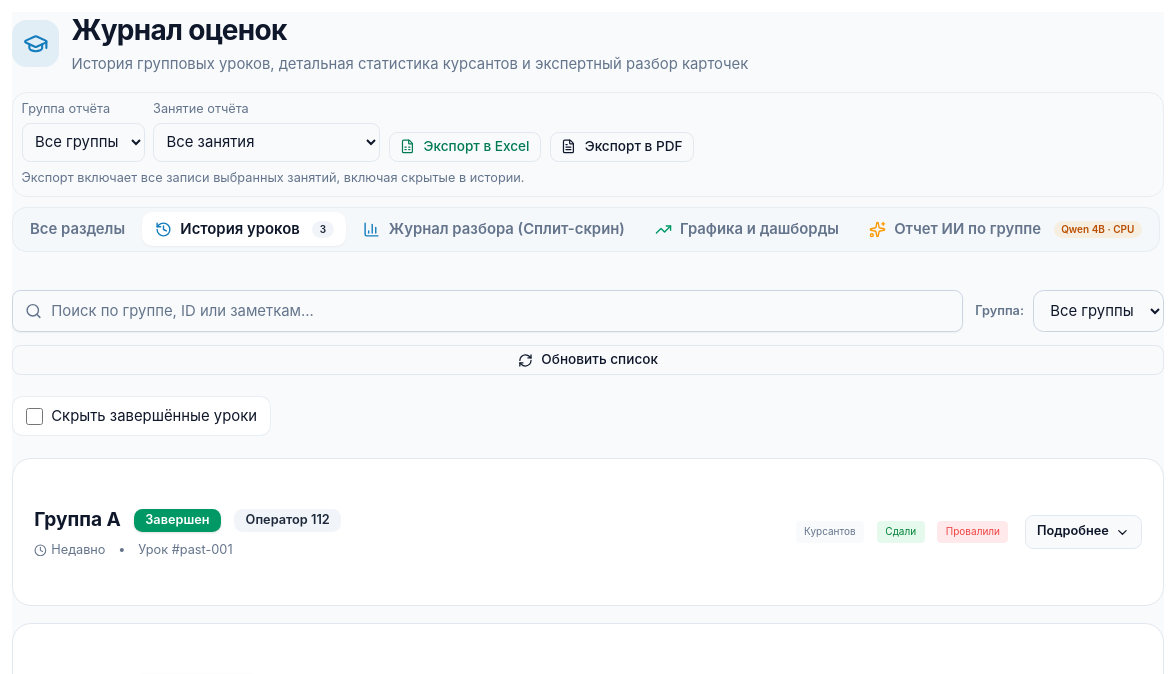
Test case: keeps report scope independent of the history filters without deleting history
Check: the text "Урок #past-001" is shown, box [138,542,233,558]
Click the checkbox labelled "Скрыть завершённые уроки" at (34, 416), box [26,408,43,425]
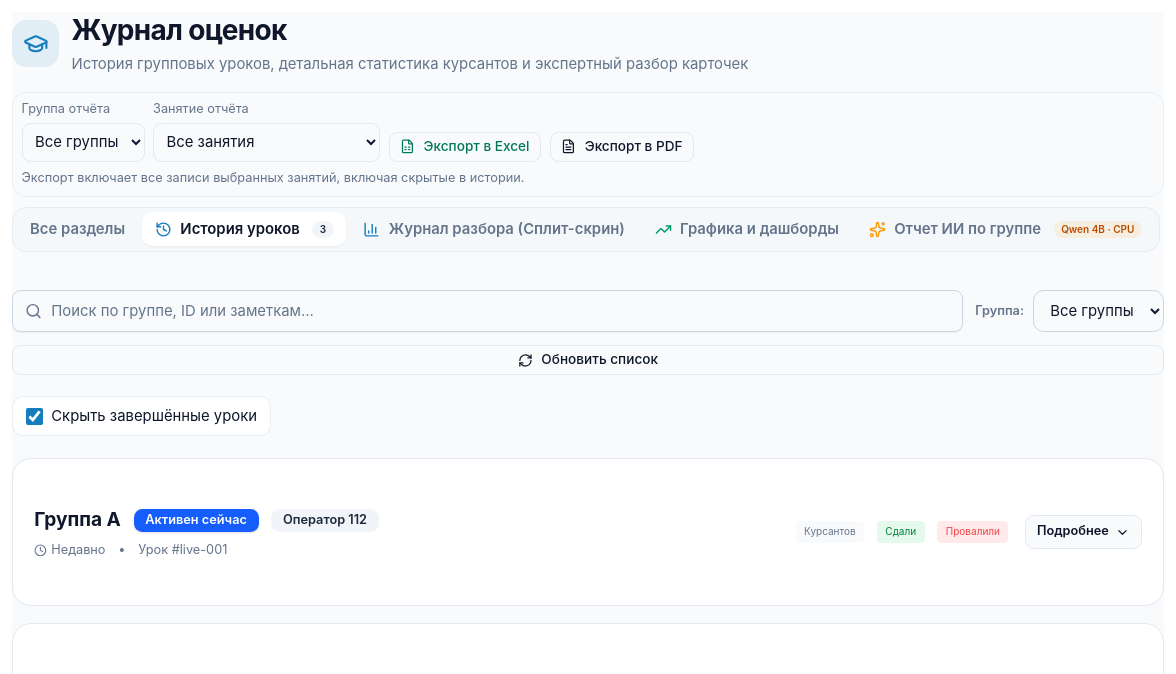
Select "Группа А" in the dropdown labelled "Группа:" at (1098, 311), box [1032,290,1164,332]
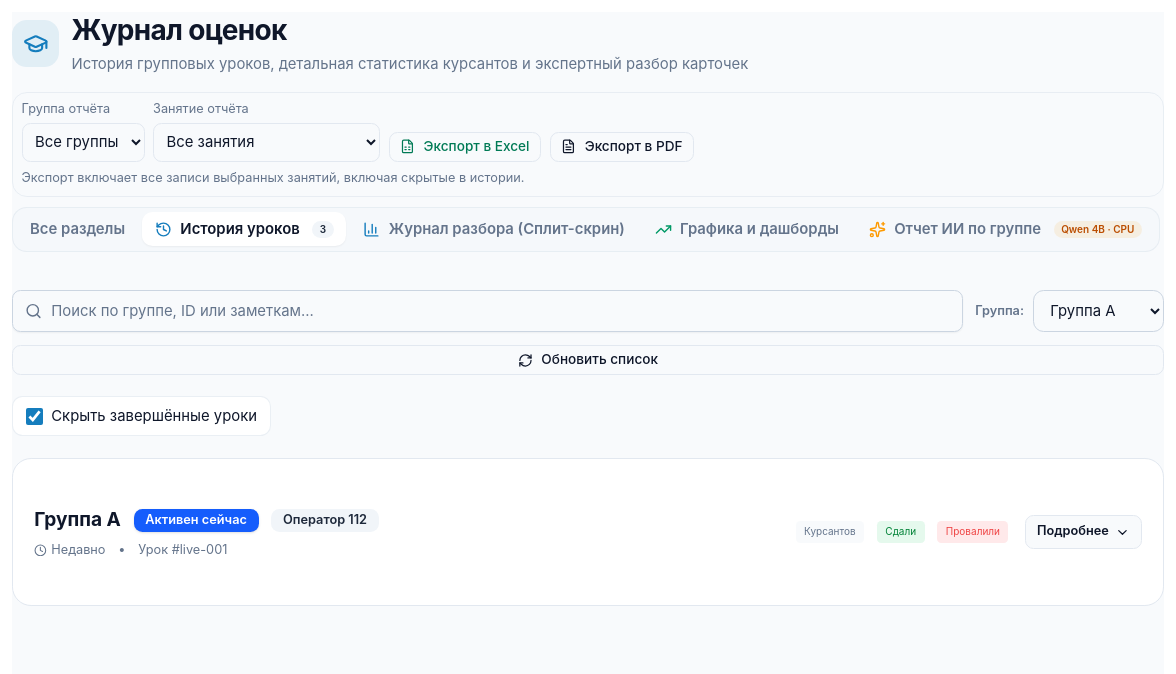
Click the button "Экспорт в Excel" at (465, 147), box [388,132,541,162]
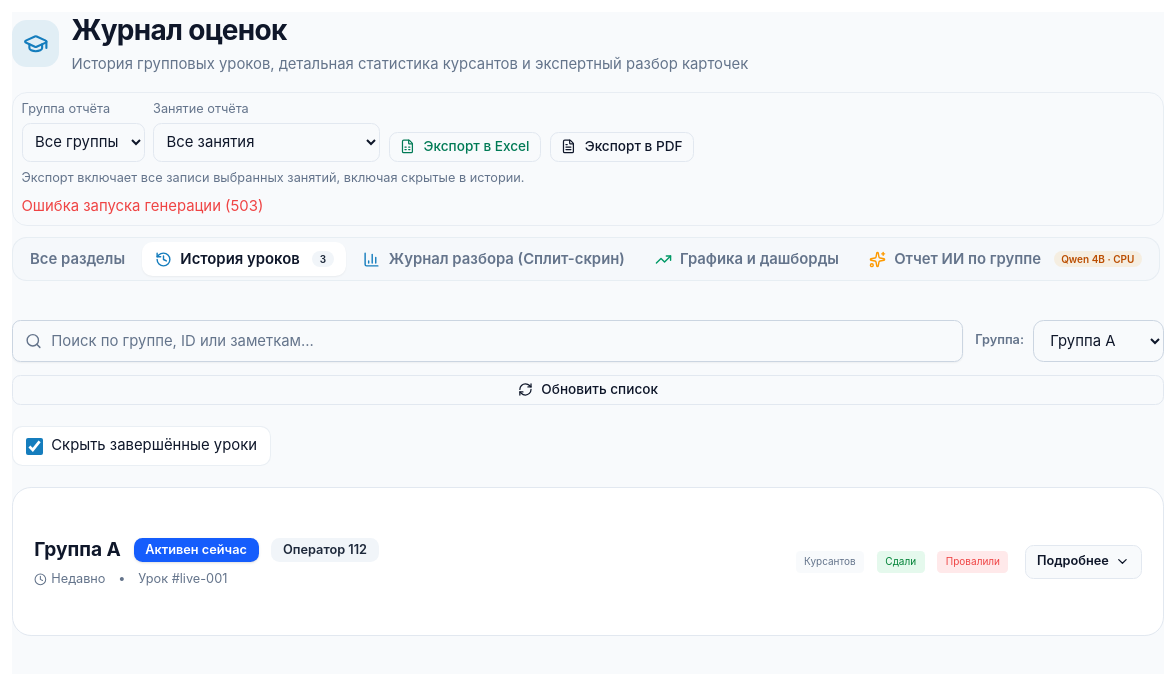
Click the checkbox labelled "Скрыть завершённые уроки" at (34, 446), box [26,438,43,454]
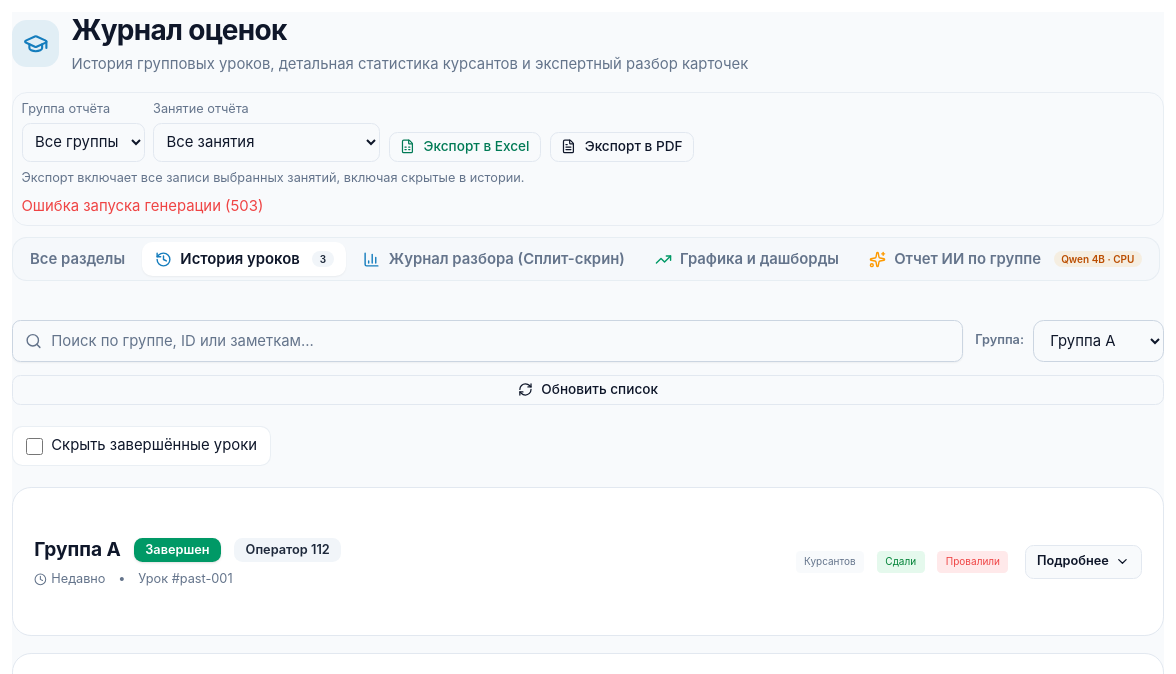
Check: the text "Урок #past-001" is shown, box [138,571,233,588]
